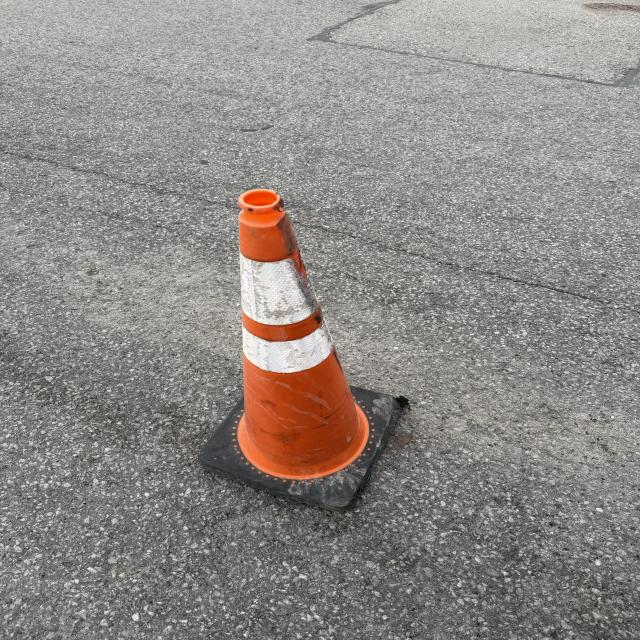Traffic Cone: (195, 190, 412, 514)
